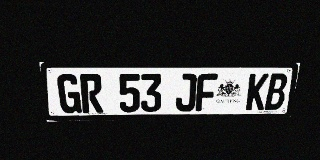3: (141, 74, 162, 112)
5: (119, 74, 140, 112)
B: (264, 73, 288, 110)
F: (195, 74, 218, 111)
G: (56, 74, 82, 113)
J: (175, 74, 197, 111)
K: (245, 74, 269, 110)
R: (79, 74, 103, 113)
